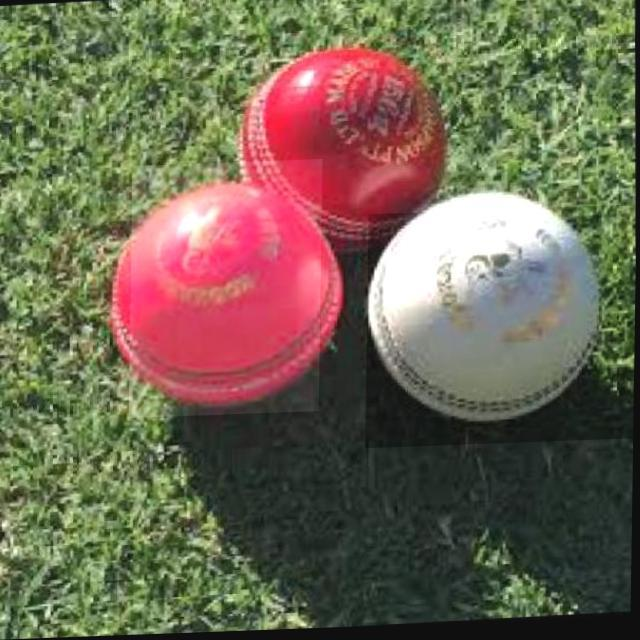-: (367, 209, 638, 452), (130, 162, 323, 420)
